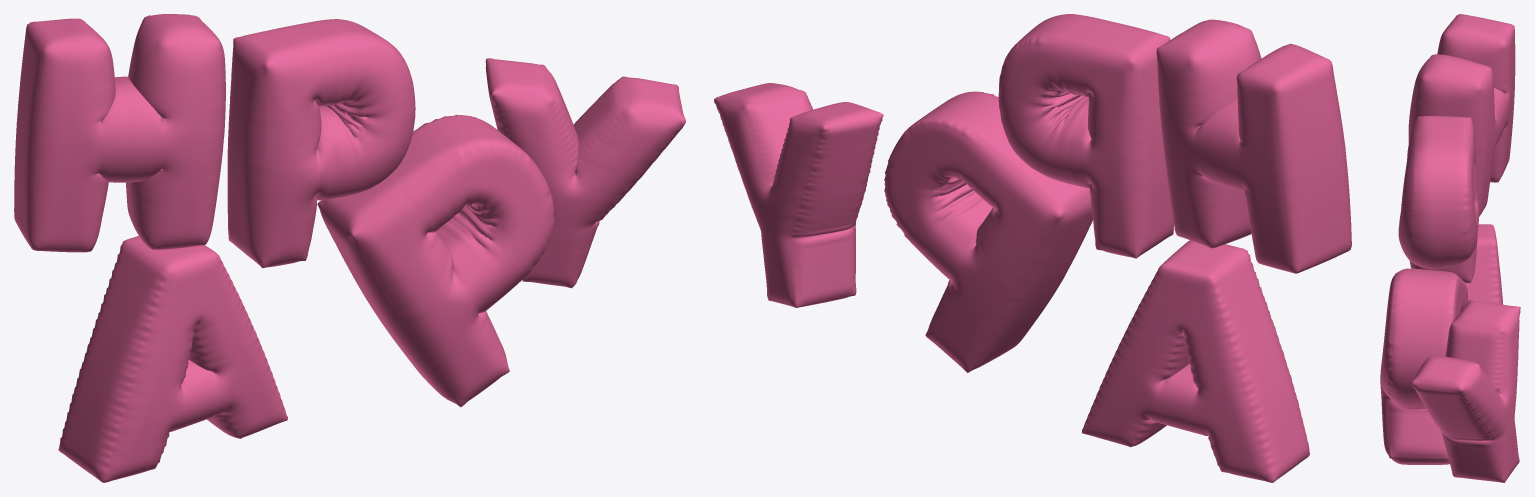
Rendered from happy2.glb.
3 renders of one model, left to right at view 1: azimuth 30°, elevation 25°; view 2: azimuth 150°, elevation 25°; view 3: azimuth 270°, elevation 25°, orthographic. The views are drawn at different scales.
Parts seen in each view (by area): view 1: 文本.001, 文本.004, 文本.003, 文本.002, 文本.005; view 2: 文本.001, 文本.004, 文本.002, 文本.003, 文本.005; view 3: 文本.005, 文本.001, 文本.003, 文本.004, 文本.002.
Part boxes in pixels (x1,y1,x2,y2): 文本.001: (14,14,225,252); 文本.004: (317,114,554,407); 文本.003: (227,19,415,268); 文本.002: (58,236,287,482); 文本.005: (485,58,685,288); 文本.001: (1156,19,1351,273); 文本.004: (884,91,1092,372); 文本.002: (1082,240,1309,482); 文本.003: (998,14,1174,258); 文本.005: (714,83,883,307); 文本.005: (1411,300,1520,482); 文本.001: (1408,14,1515,216); 文本.003: (1398,116,1478,282); 文本.004: (1380,268,1467,464); 文本.002: (1465,224,1503,304).
Bounding box in the file's own units: 2.79 × 1.8 × 0.696.
